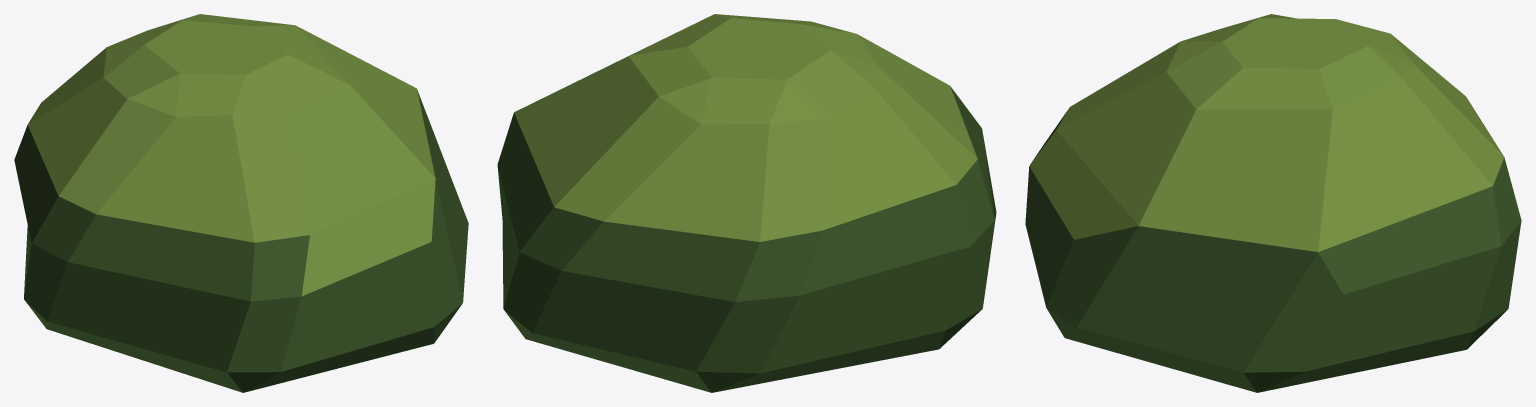
Rendered from gf_stone_small_b.glb.
3 views of the same model, side by side, from view 1: azimuth 30°, elevation 25°; view 2: azimuth 150°, elevation 25°; view 3: azimuth 270°, elevation 25° (orthographic). The views are drawn at different scales.
Parts seen in each view (by area): view 1: gf_stone_small_b; view 2: gf_stone_small_b; view 3: gf_stone_small_b.
Part boxes in pixels (<box>): gf_stone_small_b: <box>14,14,468,392</box>; gf_stone_small_b: <box>497,14,996,392</box>; gf_stone_small_b: <box>1025,14,1521,392</box>.
Size of the model in its own units: 0.1261 by 0.068 by 0.1264.
